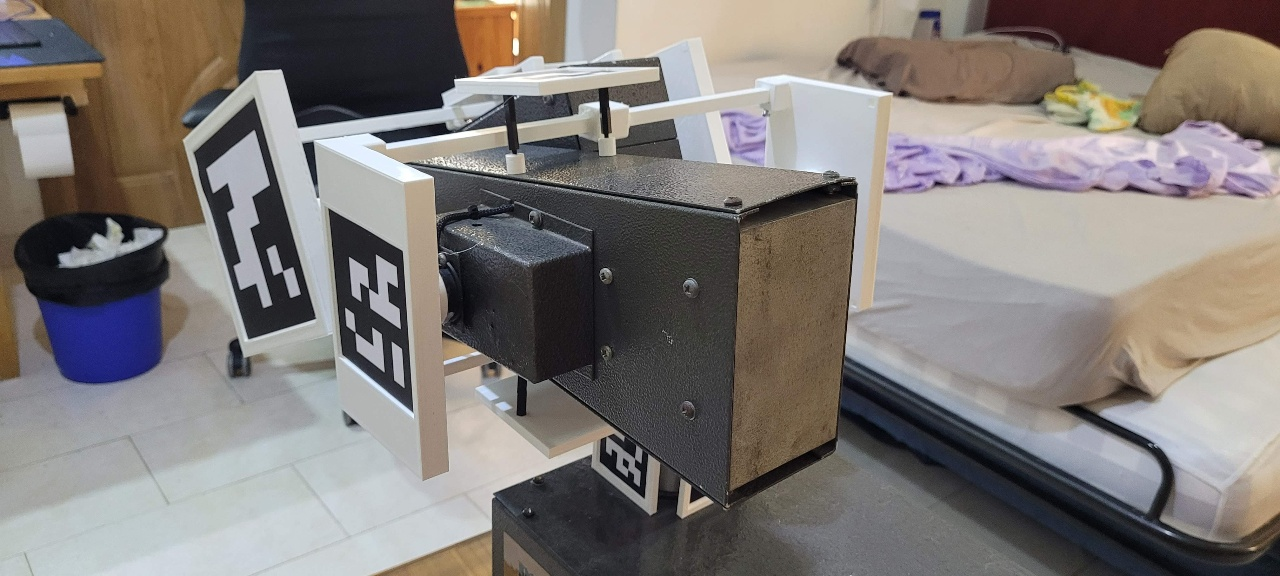Robot: (162, 18, 919, 576)
